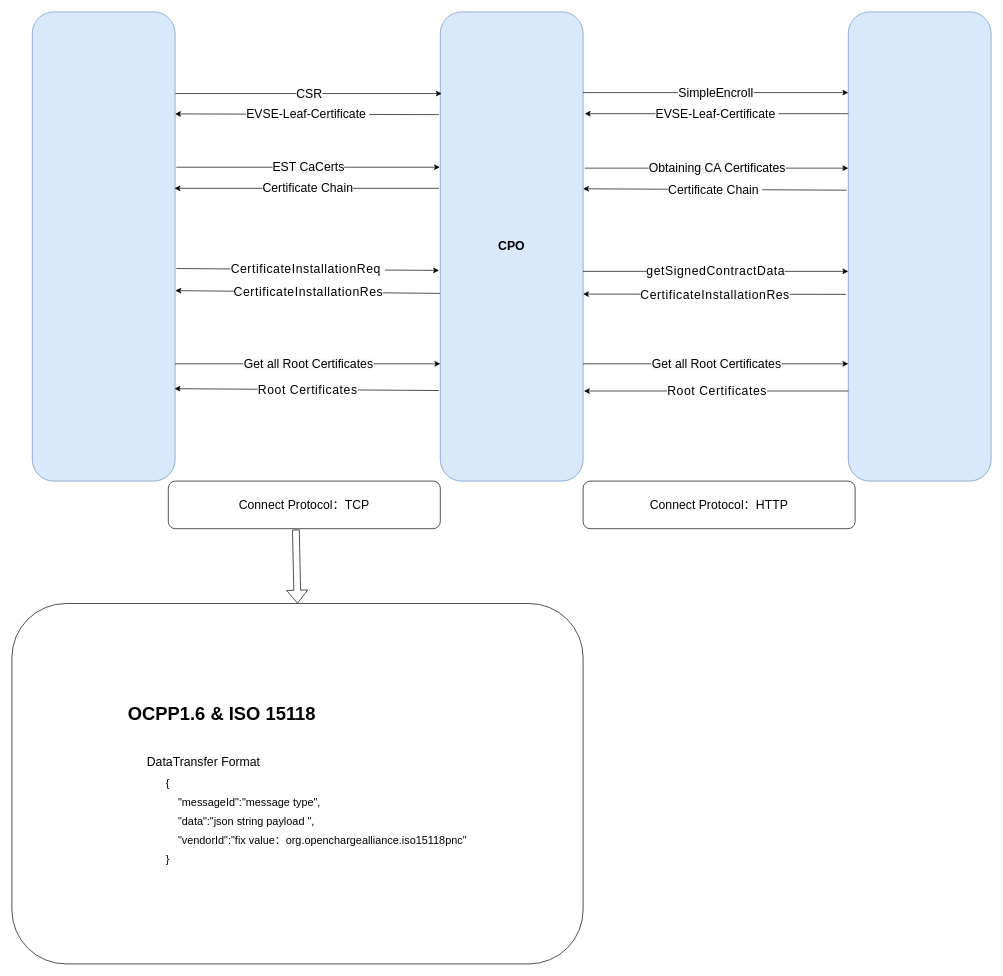
The diagram is 1003 pixels wide and 976 high, and some of its shapes have lost their labels. The centre of each missing label's shape, as x and y in pixels:
HUBJECT: the point at 919,246
PILE: the point at 103,246
